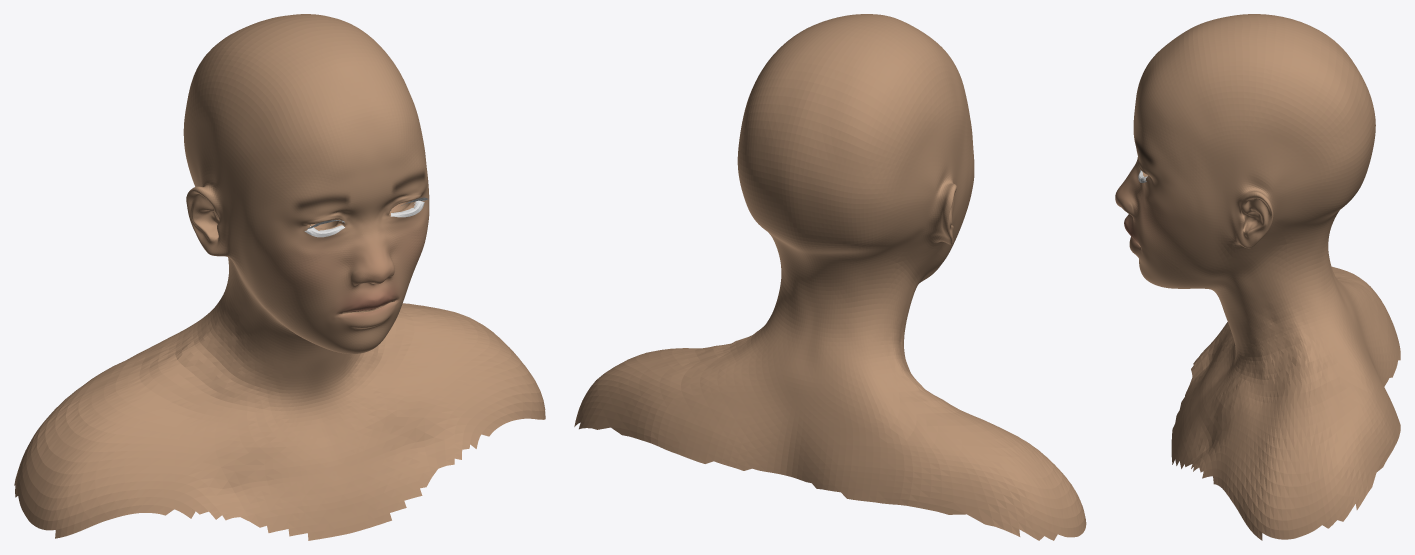
The model's file is hd_f_medium_full.glb.
3 views of the same model, side by side, from view 1: azimuth 30°, elevation 25°; view 2: azimuth 150°, elevation 25°; view 3: azimuth 270°, elevation 25° (orthographic). The views are drawn at different scales.
Parts seen in each view (by area): view 1: skin, lashes; view 2: skin; view 3: skin.
Boxes of the visible parts, x1,y1,x2,y2 form: skin: (14,14,545,540); lashes: (304,197,428,237); skin: (574,14,1086,540); skin: (1115,14,1400,540).
Bounding box in the file's own units: 0.4171 × 0.3714 × 0.2266.
